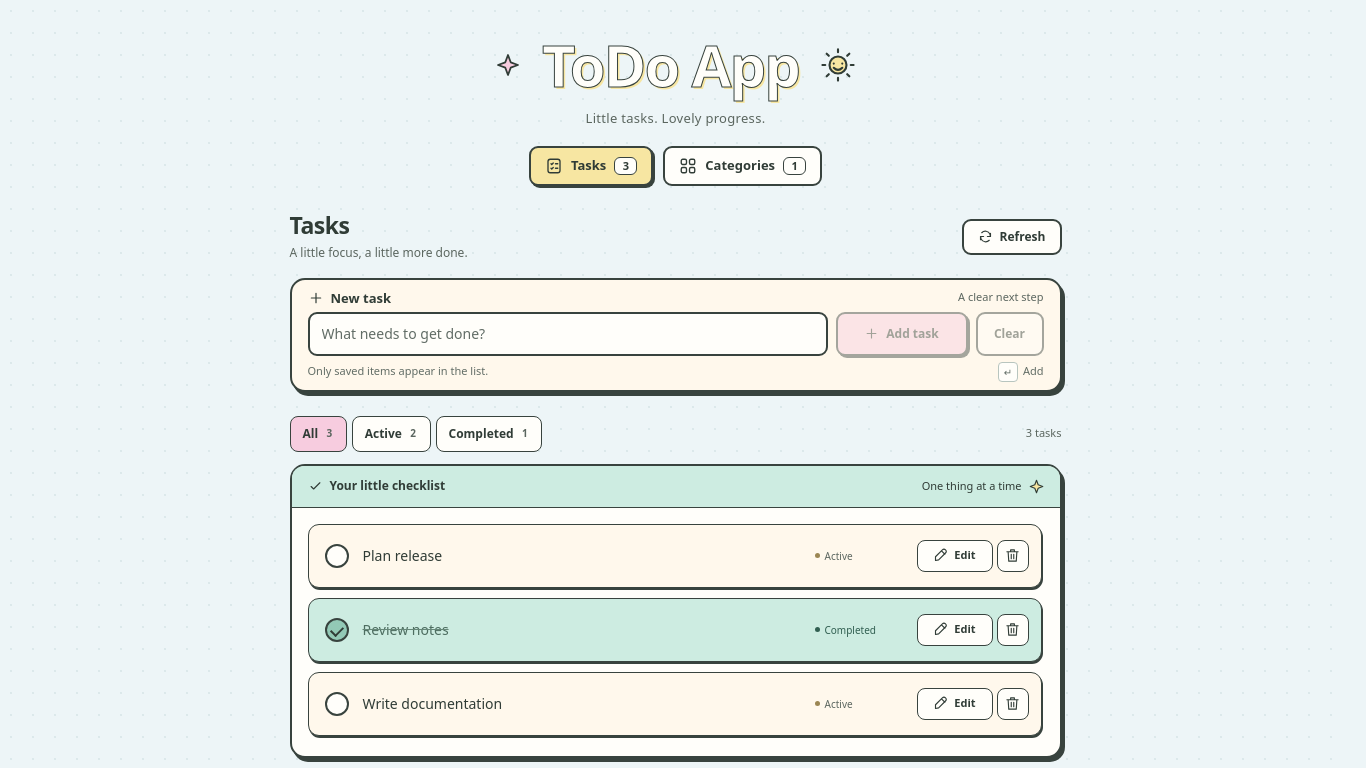
stable client order with unordered UUID task responses › editing uses fresh data without moving or remounting rows
Expected: the text "Plan release" is shown, [362,546,442,565]
Click the button with aria-label "Edit task “Plan release”".
click(954, 556)  # box [916,540,992,572]
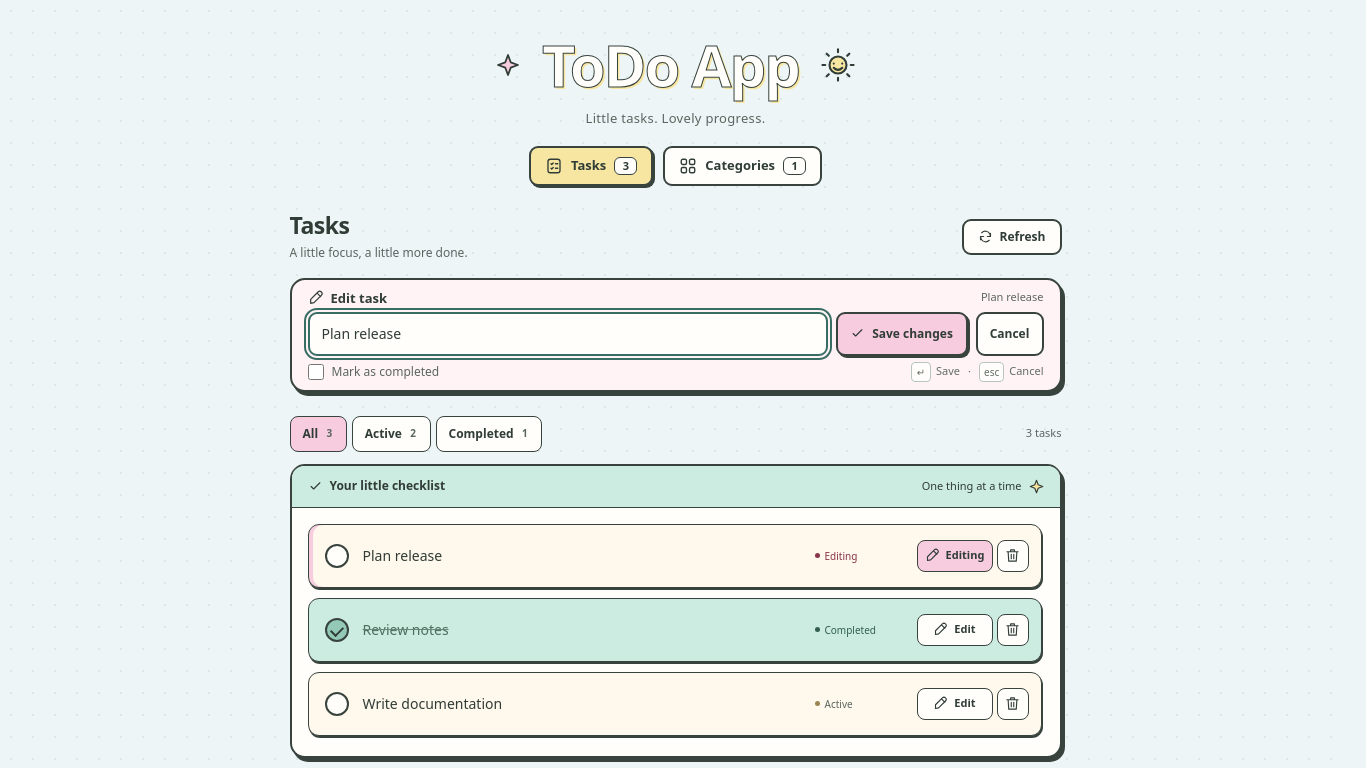
Replace the text in the field named "Task title" with "Plan next release" at (568, 334), box [308,312,828,356]
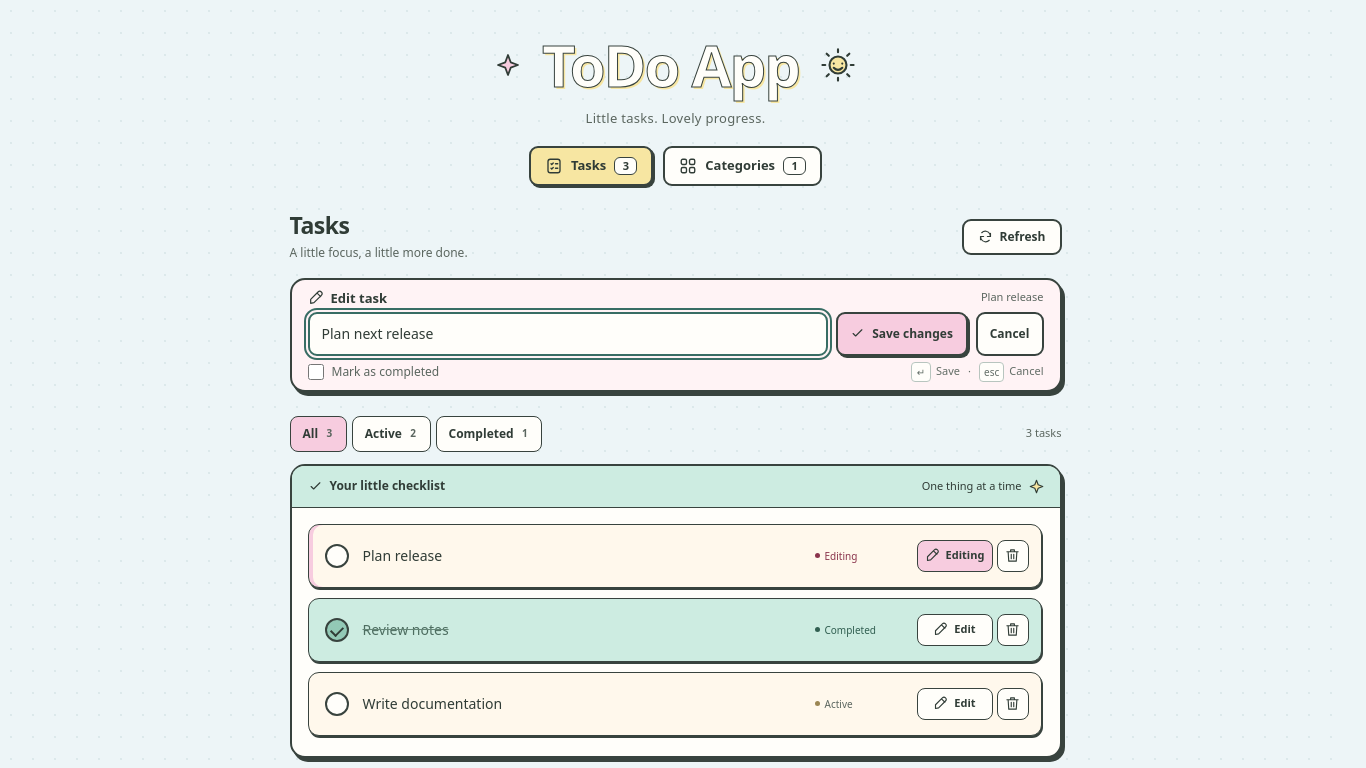
Click the button "Save changes".
click(902, 334)  # box [836,312,968,356]
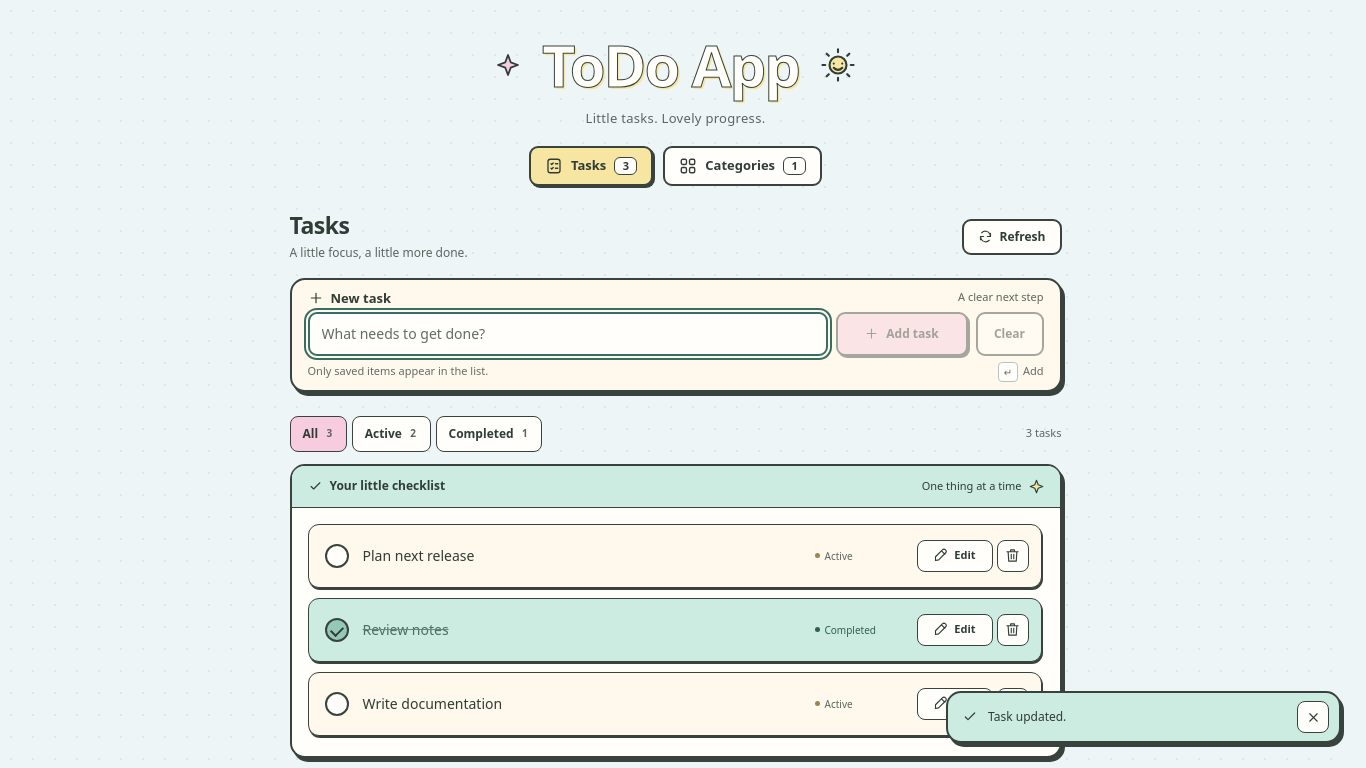
Expected: the number of list items is 3, [308,524,1042,588]; [308,598,1042,662]; [308,672,1042,736]
Expected: the text "Task updated." is shown, [988,708,1066,725]
